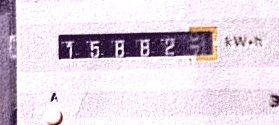1: (64, 39, 74, 58)
2: (163, 36, 176, 56)
5: (86, 39, 101, 58)
7: (187, 42, 200, 55)
8: (137, 36, 151, 57), (113, 38, 126, 58)
screen: (52, 24, 222, 67)
